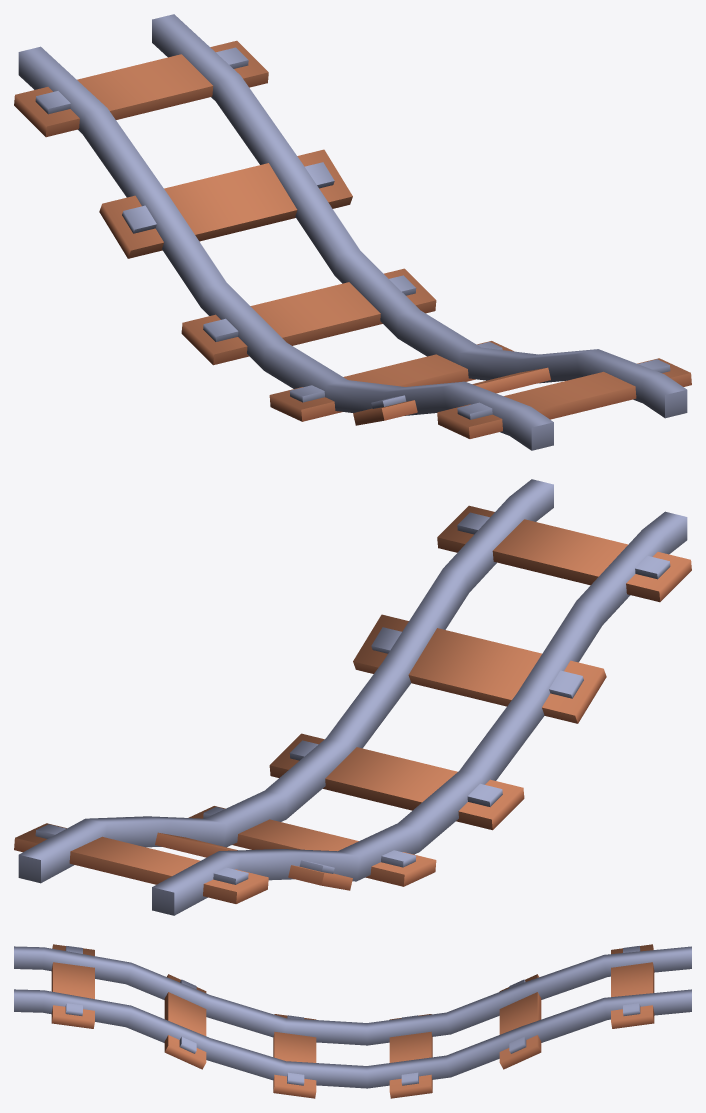
File: railroad-straight-bump-down.glb
3 views of the same model, one above another, from view 1: azimuth 30°, elevation 25°; view 2: azimuth 150°, elevation 25°; view 3: azimuth 270°, elevation 25° (orthographic). The views are drawn at different scales.
Visible parts, largest first — view 1: railroad-straight-bump-down; view 2: railroad-straight-bump-down; view 3: railroad-straight-bump-down.
Boxes of the visible parts, x1,y1,x2,y2 form: railroad-straight-bump-down: [14, 14, 691, 450]; railroad-straight-bump-down: [14, 479, 691, 915]; railroad-straight-bump-down: [14, 944, 691, 1098].
Size of the model in its own units: 1 by 0.5987 by 4.
